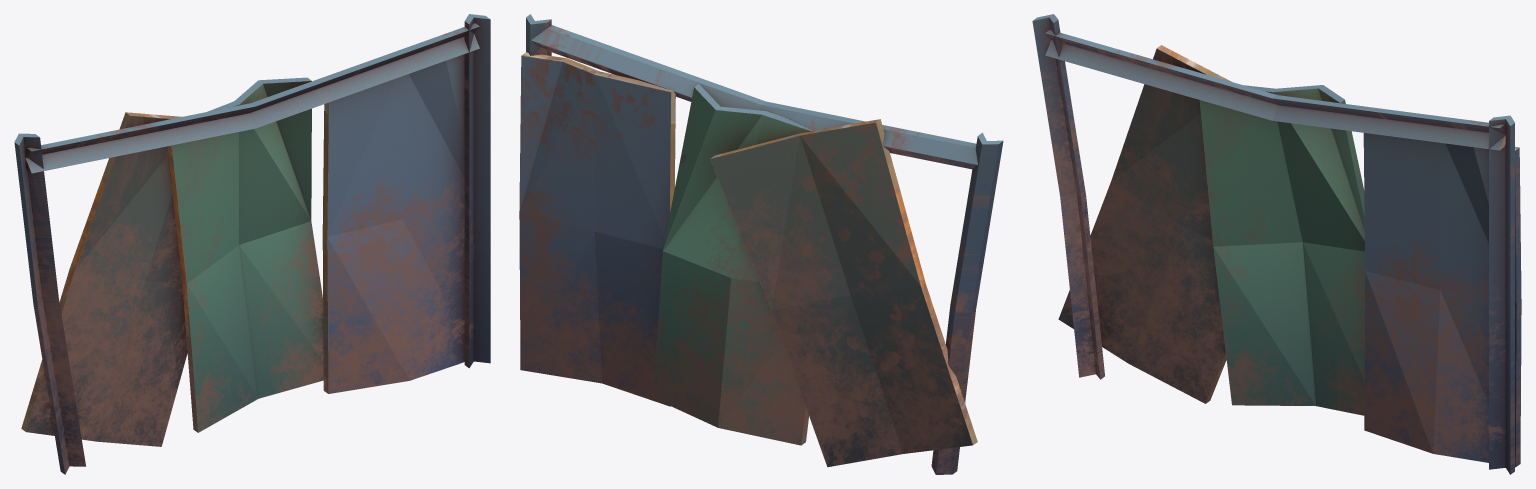
Rendered from Fence.glb.
3 renders of one model, left to right at view 1: azimuth 30°, elevation 25°; view 2: azimuth 150°, elevation 25°; view 3: azimuth 330°, elevation 25°, orthographic.
Parts seen in each view (by area): view 1: Fence; view 2: Fence; view 3: Fence.
Boxes of the visible parts, x1,y1,x2,y2 form: Fence: (14, 14, 490, 474); Fence: (519, 14, 1003, 474); Fence: (1032, 14, 1521, 474).
Bounding box in the file's own units: 2.68 × 1.96 × 0.3455.
1 material, 1 textured.
